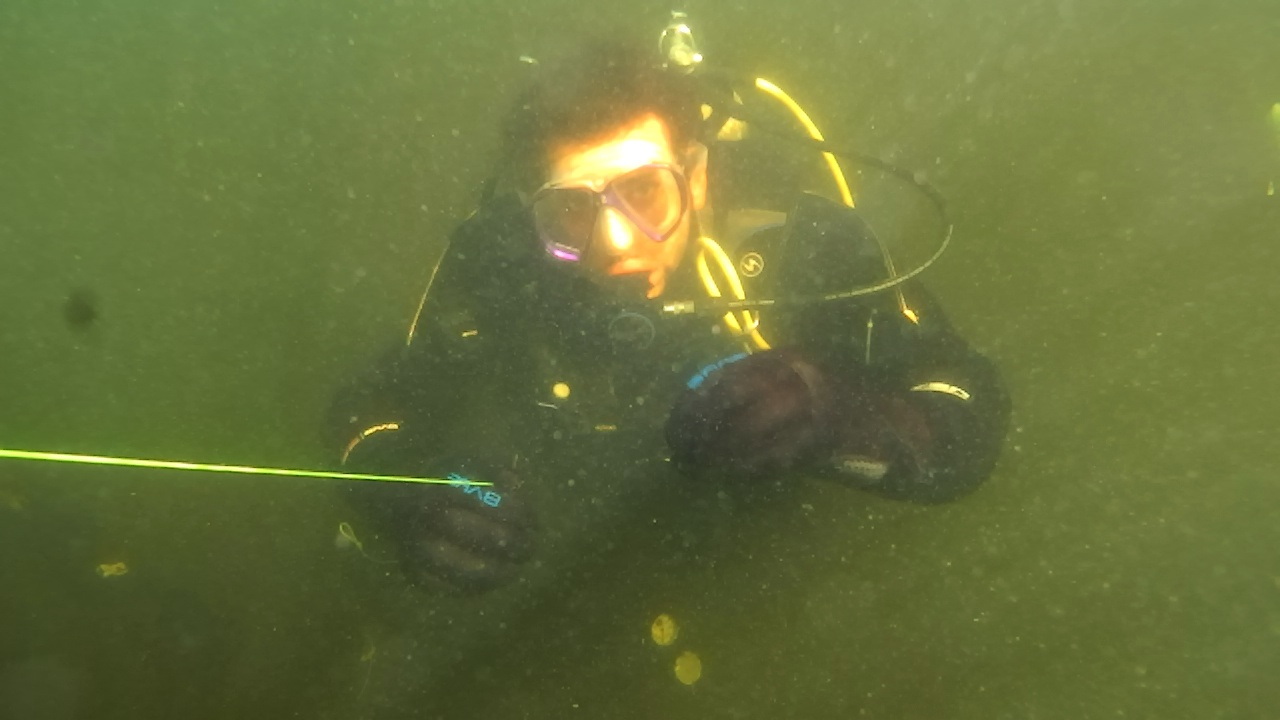Diver: (290, 34, 1048, 580)
Hand: (630, 308, 926, 510), (352, 424, 564, 614)
Head: (490, 30, 730, 314)
